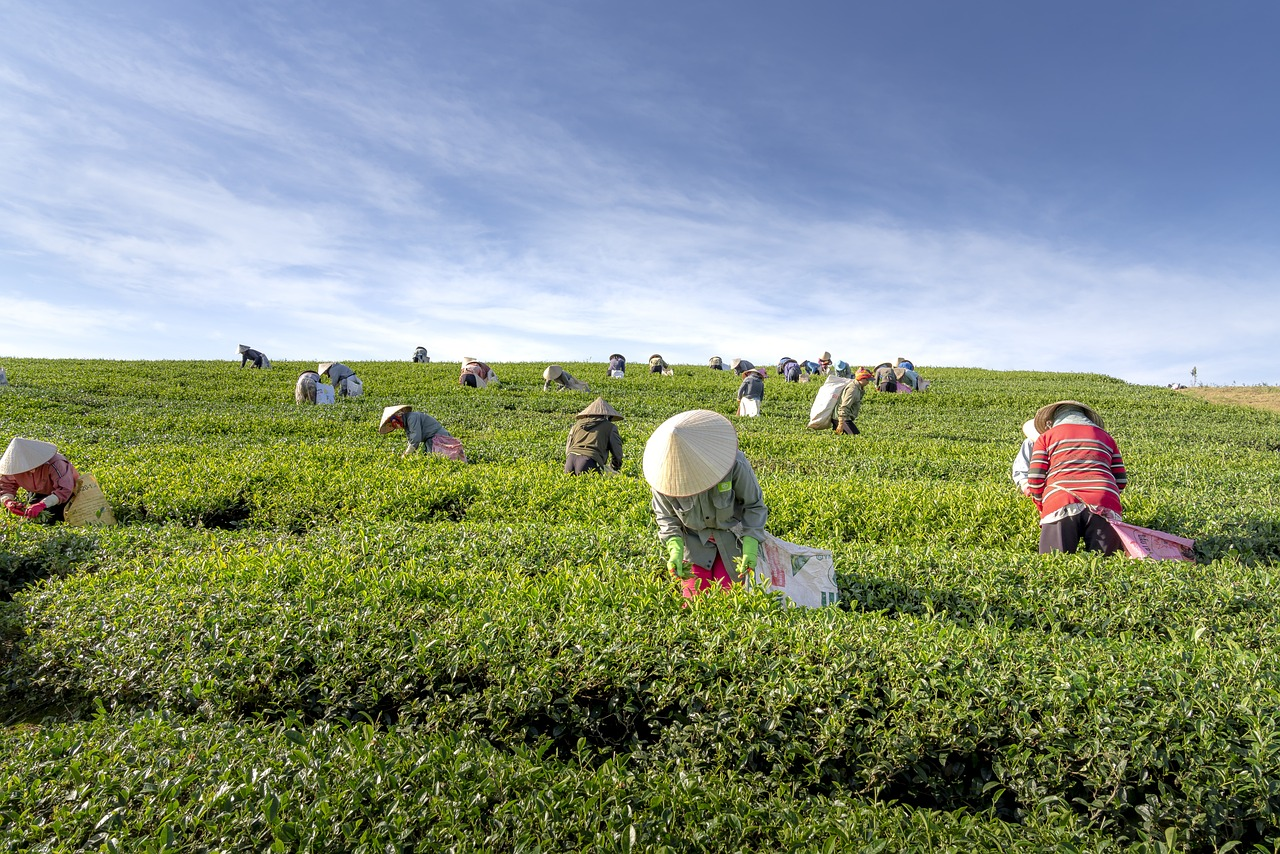person: (616, 405, 818, 609), (1024, 395, 1148, 561), (1, 426, 119, 534), (545, 388, 631, 487), (364, 402, 479, 468), (803, 370, 891, 430), (311, 350, 377, 401), (1004, 411, 1040, 503), (724, 364, 779, 418), (526, 357, 598, 396), (283, 364, 338, 414), (219, 334, 279, 370), (450, 355, 501, 392), (894, 353, 930, 394), (872, 357, 902, 403), (591, 349, 634, 381), (406, 341, 441, 367), (806, 344, 834, 372), (777, 350, 800, 380), (700, 352, 733, 372), (645, 347, 669, 374), (831, 362, 854, 381)
